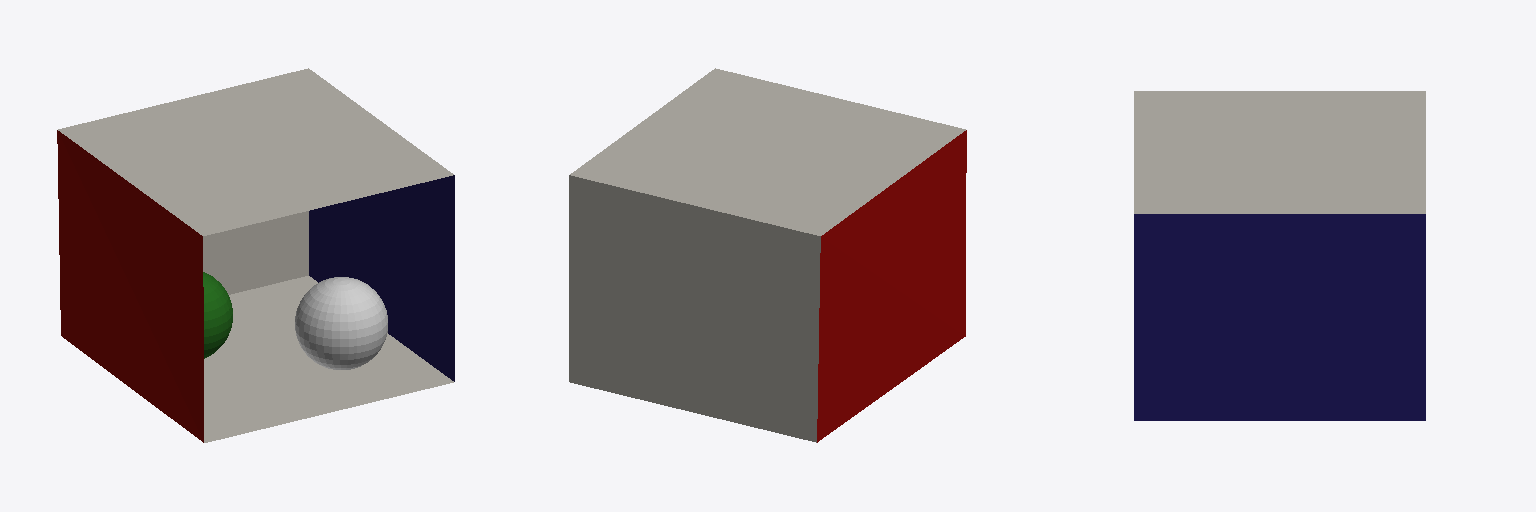
The model's file is CornellBox-Sphere.obj.
3 renders of one model, left to right at view 1: azimuth 30°, elevation 25°; view 2: azimuth 150°, elevation 25°; view 3: azimuth 270°, elevation 25°, orthographic.
Visible parts, largest first — view 1: ceiling, leftWall, floor, rightWall, rightSphere, backWall, leftSphere; view 2: backWall, ceiling, leftWall; view 3: rightWall, ceiling.
Part boxes in pixels (bbox=[...]): ceiling: bbox=[58, 68, 453, 235]; leftWall: bbox=[57, 130, 203, 442]; floor: bbox=[204, 276, 453, 442]; rightWall: bbox=[309, 175, 454, 381]; rightSphere: bbox=[295, 277, 387, 369]; backWall: bbox=[203, 211, 308, 294]; leftSphere: bbox=[203, 272, 232, 358]; backWall: bbox=[569, 175, 820, 442]; ceiling: bbox=[570, 68, 965, 235]; leftWall: bbox=[817, 130, 966, 442]; rightWall: bbox=[1134, 214, 1425, 420]; ceiling: bbox=[1134, 91, 1425, 213].
Bounding box in the file's own units: 2.02 × 1.59 × 2.03.